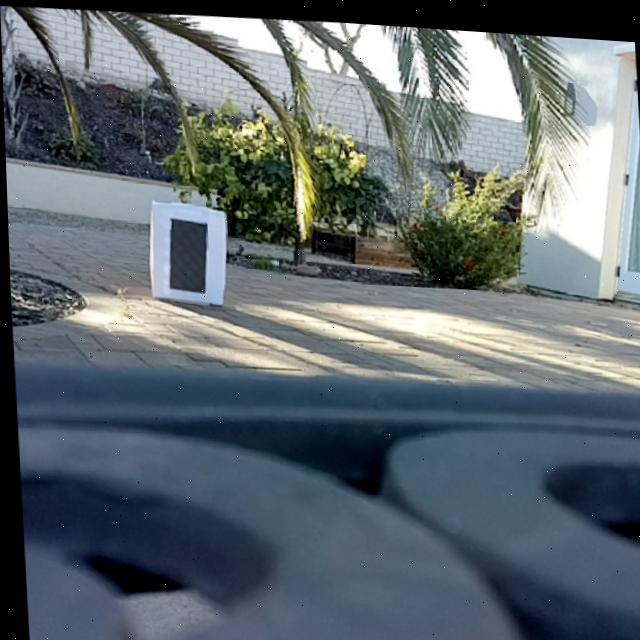led: (166, 215, 206, 292)
